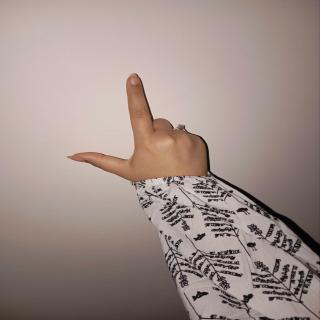LAAM: (64, 66, 225, 198)
